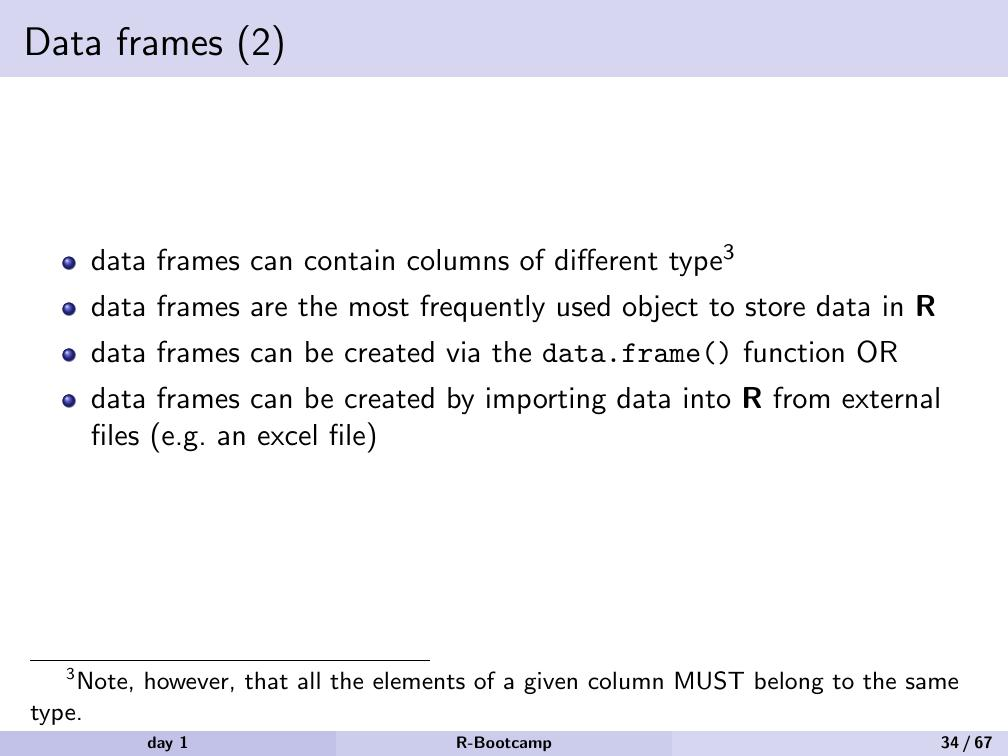Title: (23, 17, 292, 76)
